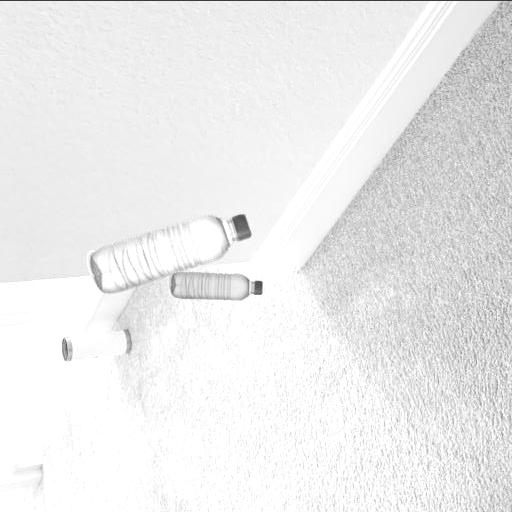bottle: (84, 204, 261, 292), (168, 264, 262, 304)
